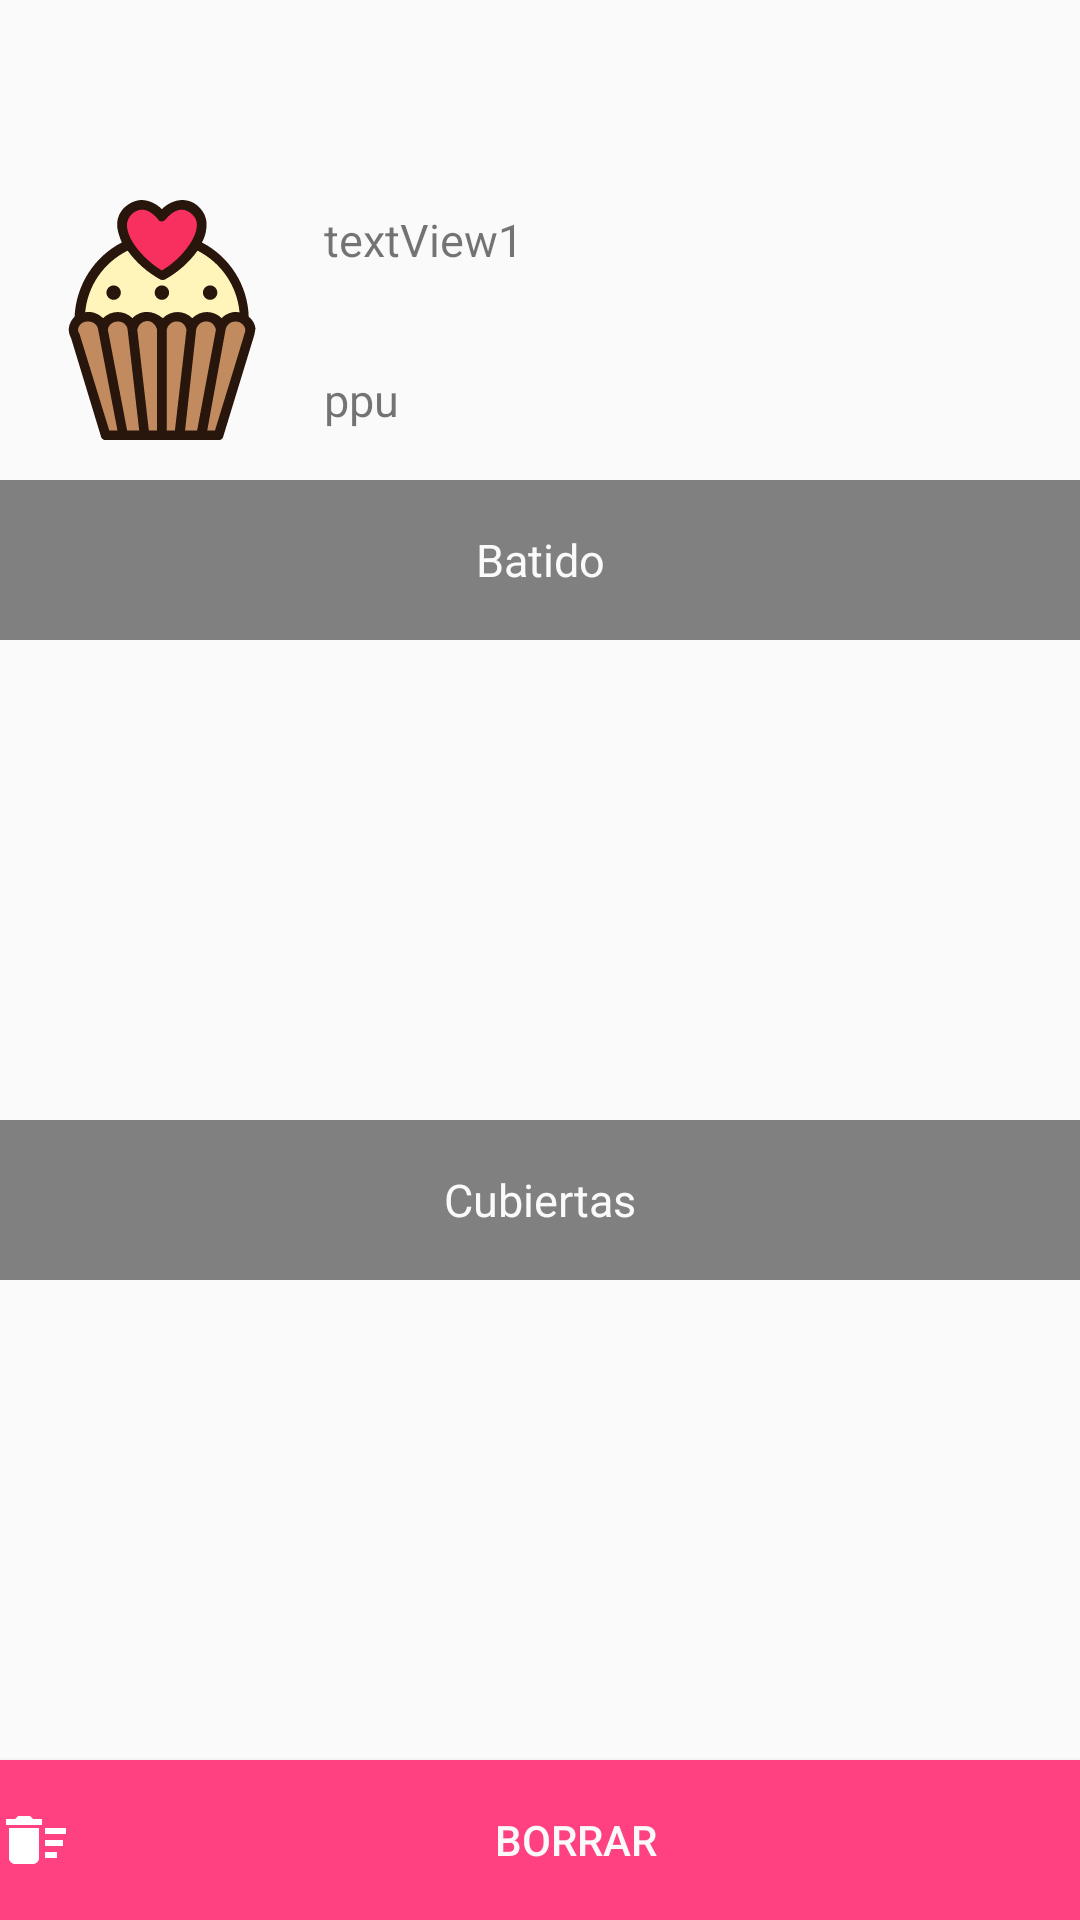

Where icons sit on this 1080x1920 app screen, as (x1, y1, x2, y2):
cupcake: (68, 200, 256, 440)
